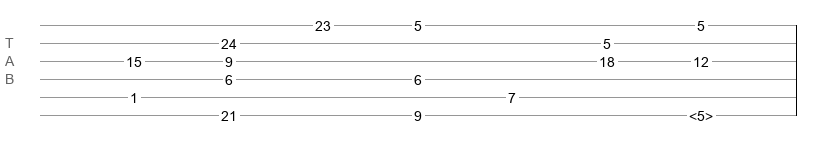1: (130, 90, 138, 100)
12: (693, 54, 709, 64)
15: (126, 54, 142, 64)
18: (599, 54, 615, 64)
21: (221, 108, 237, 118)
23: (315, 18, 331, 28)
24: (221, 36, 237, 46)
5: (414, 18, 422, 28), (603, 36, 611, 46), (697, 18, 705, 28)
6: (225, 72, 233, 82), (414, 72, 422, 82)
7: (508, 90, 516, 100)
9: (225, 54, 233, 64), (414, 108, 422, 118)
harmonic: (689, 108, 713, 118)
